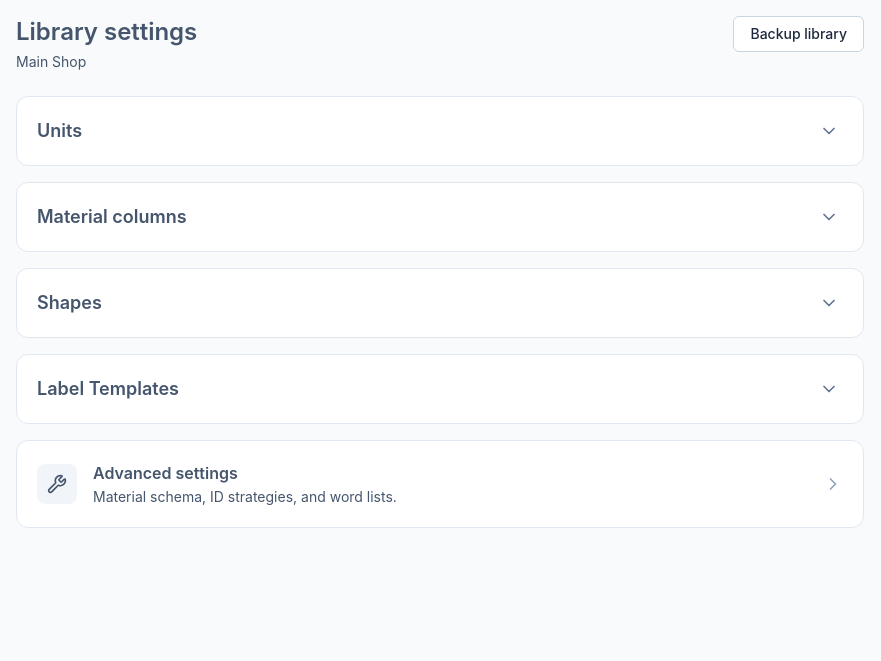
Scenario: LibrarySettingsView › collapses Units by default and shows Millimeter after expand
Expected: the heading "Units" is shown, [37,117,82,145]
Click the button named "Expand Units" at (829, 131), box [815,117,843,145]
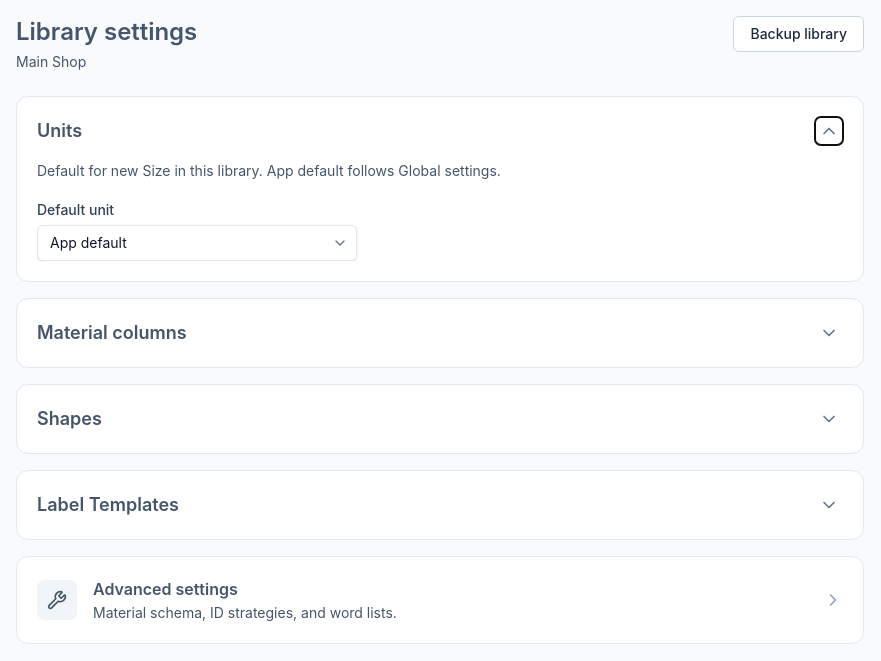
Expected: the text "Default for new Size in this library. App default follows Global settings." is shown, [37,162,501,179]
Click the dropdown named "Default unit" at (88, 242), box [37,225,357,261]
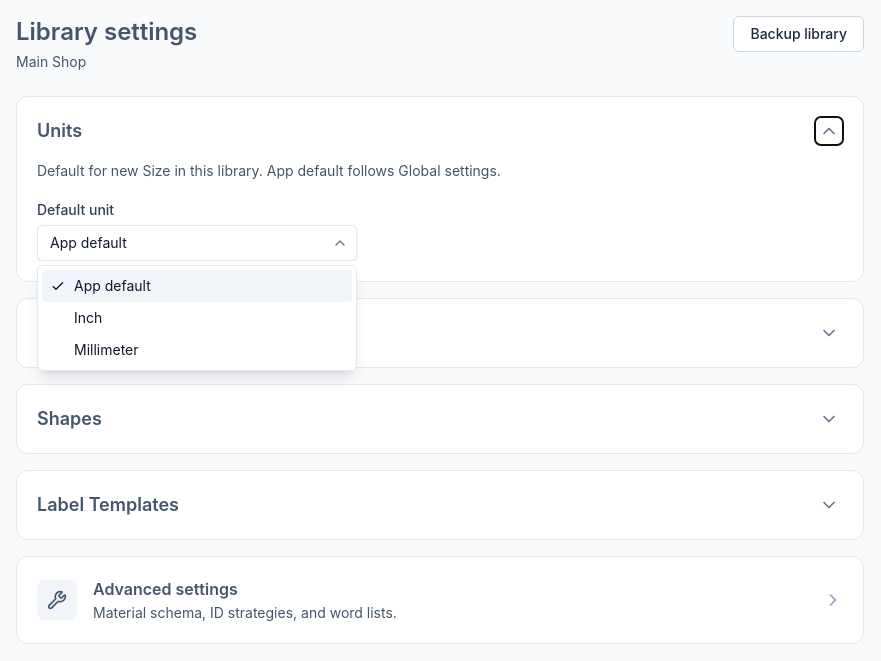
Expected: the option "Millimeter" is shown, [42,334,352,366]
